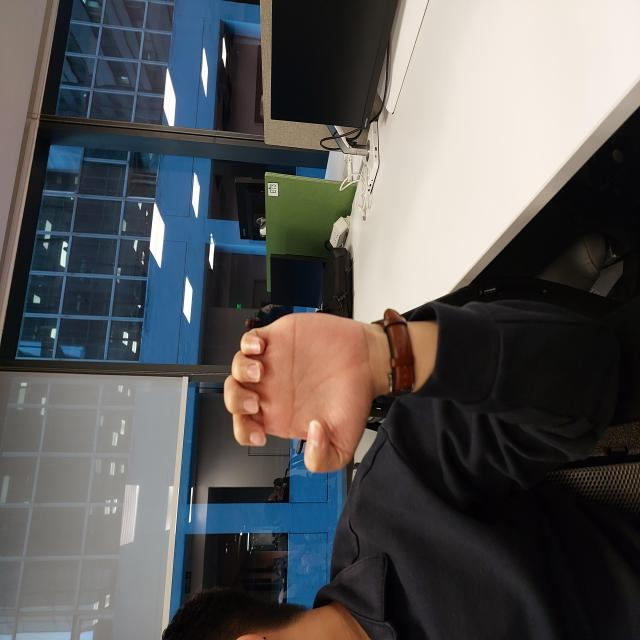E: (167, 223, 329, 373)
